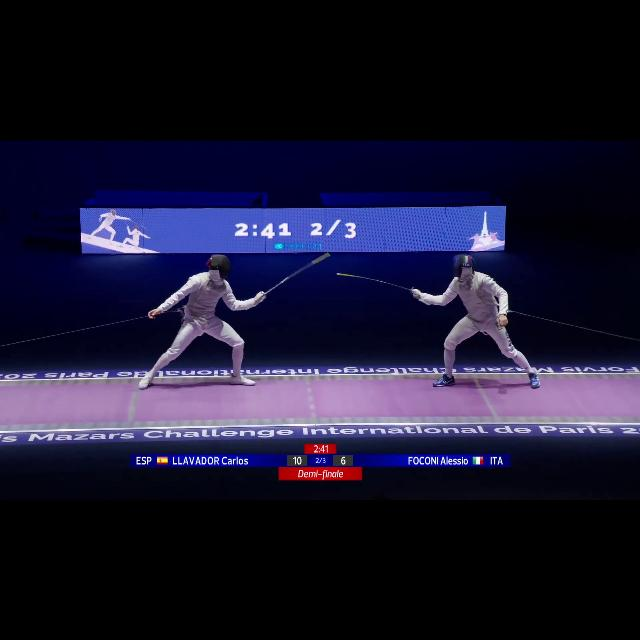blade: (254, 251, 336, 299), (336, 272, 422, 294)
